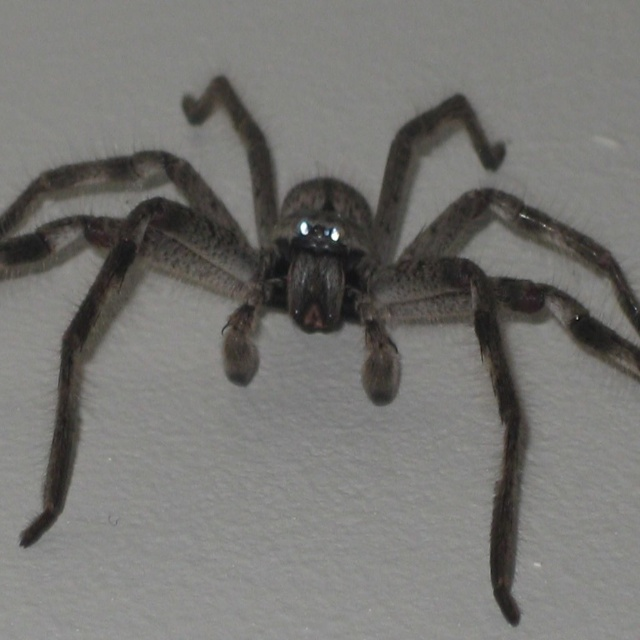Spider: (0, 73, 640, 628)
